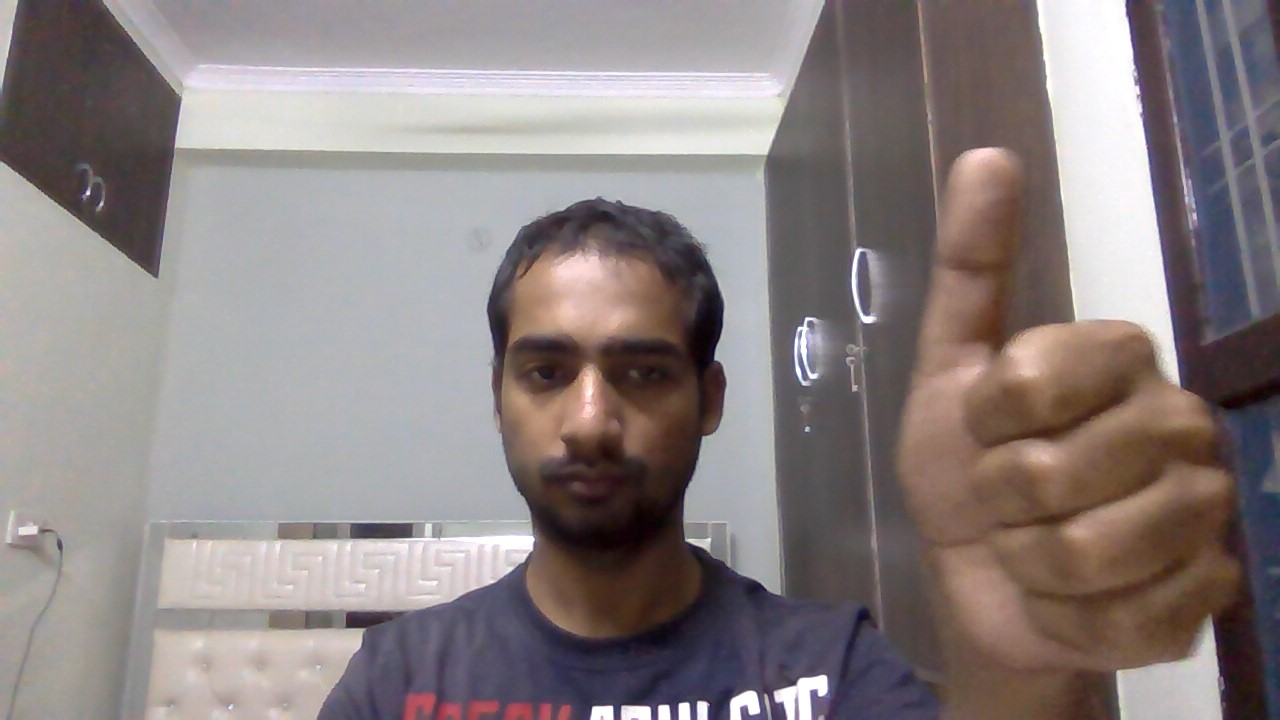Save: (871, 133, 1252, 686)
